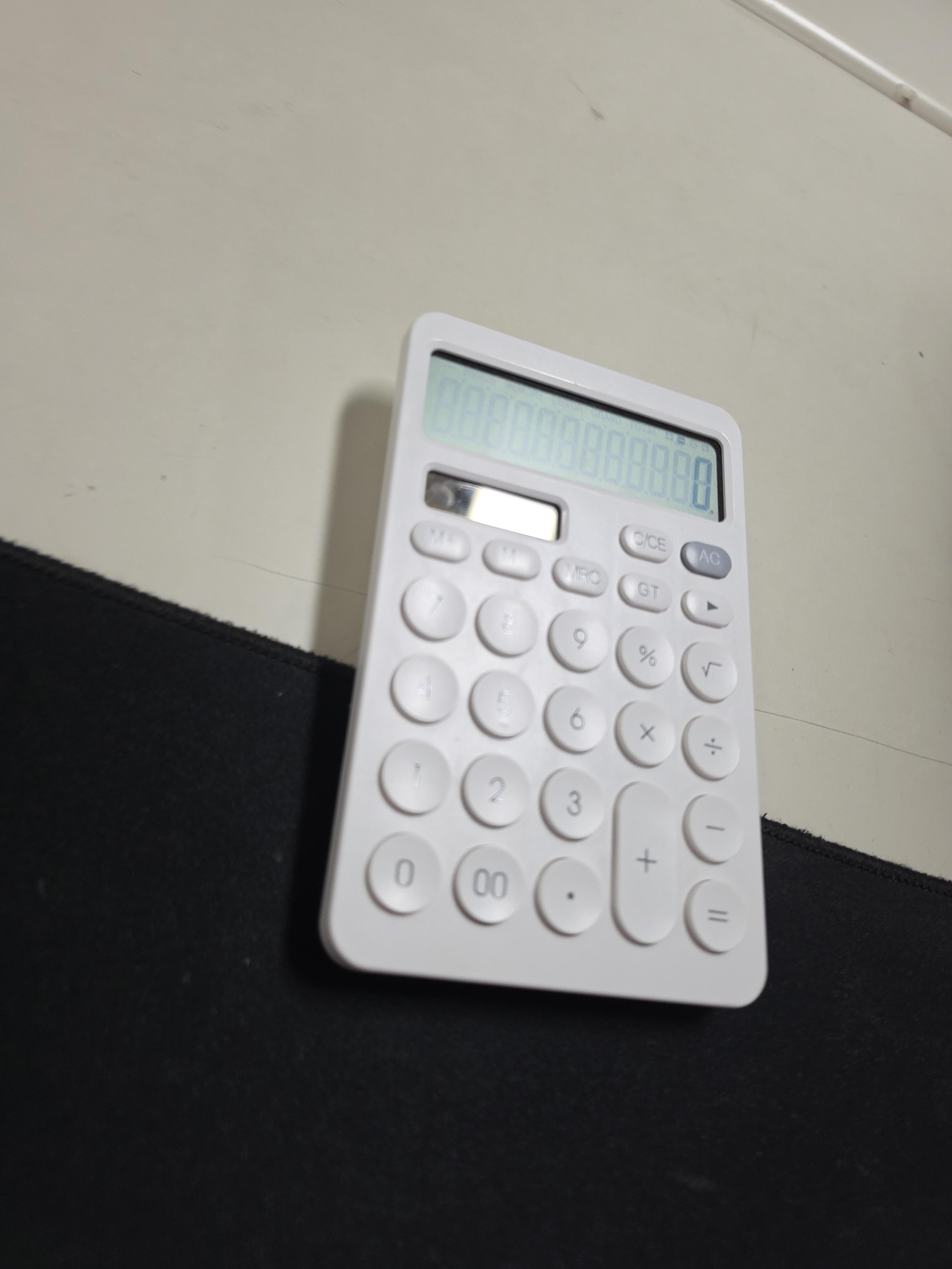calculator: (319, 312, 767, 1007)
